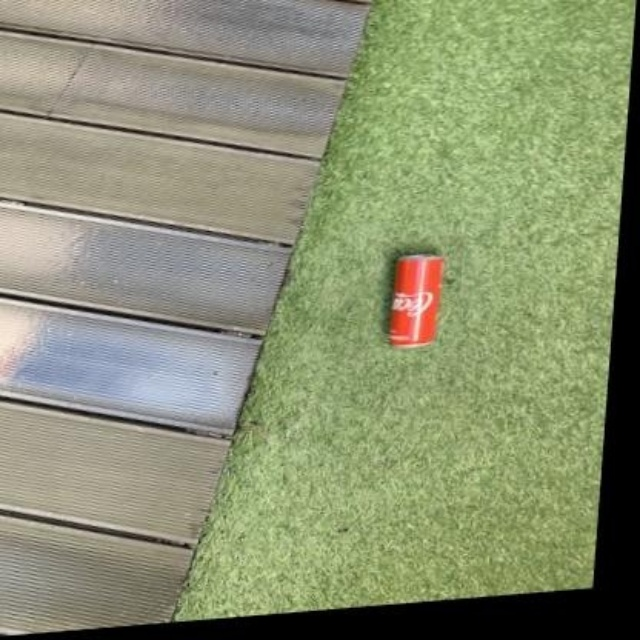trash: (389, 254, 442, 345)
